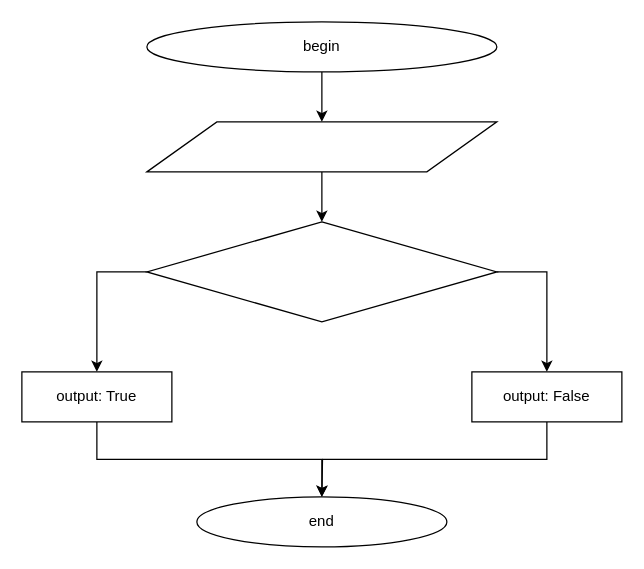
This 644x569 diagram has some shape labels left out. The shapes that lost their labels are listed below. From the top down, each one's box as (x1, y1, x2, y2) in pixels, then its label:
(146, 121, 497, 172): input: n
(146, 221, 497, 322): (n%4 == 0 and n%100 != 0) or (n%400 == 0)
